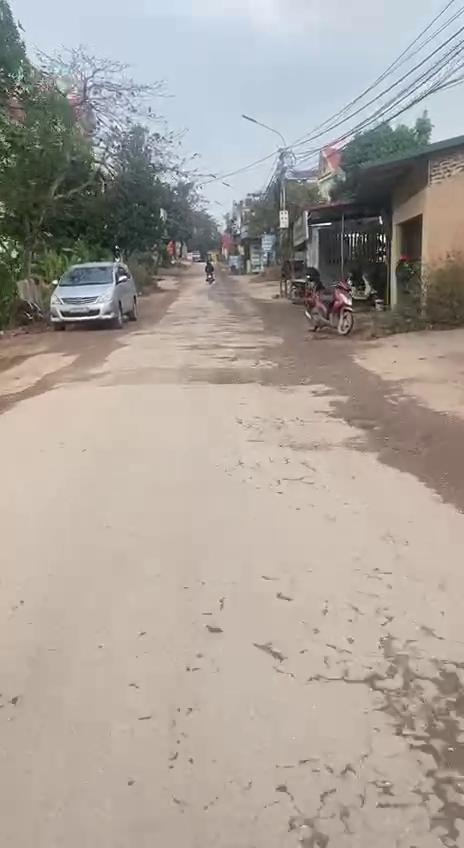pothole: (360, 642, 464, 848), (341, 413, 382, 436)
